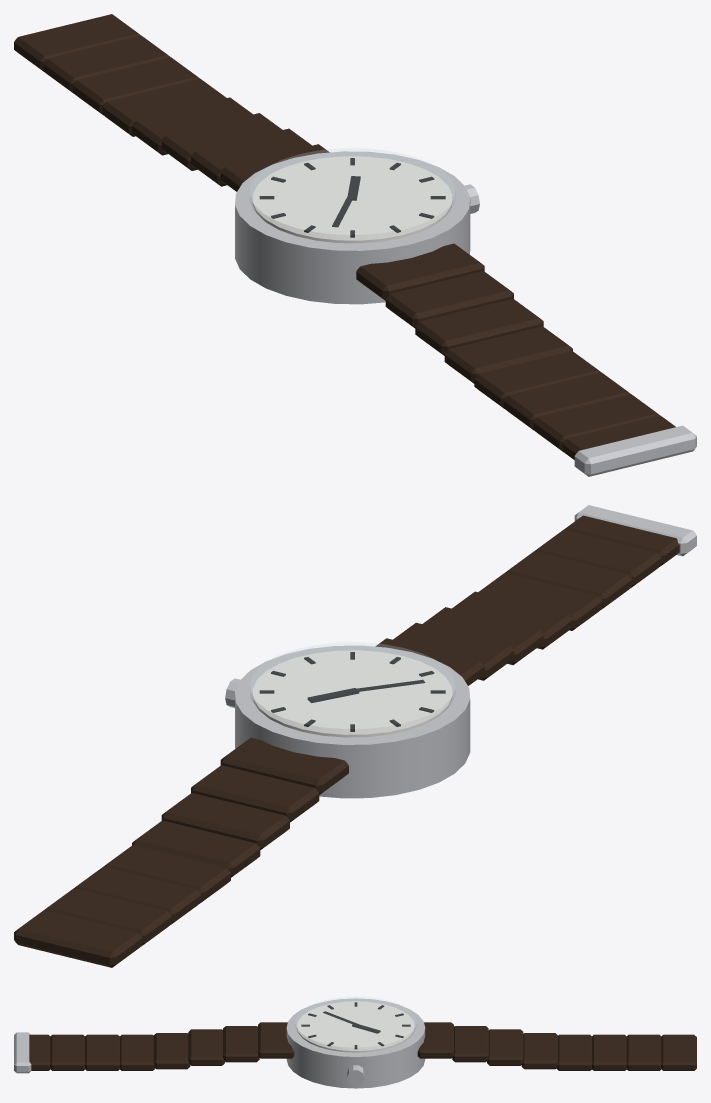
Rendered from watch.glb.
3 renders of one model, top to bottom at view 1: azimuth 30°, elevation 25°; view 2: azimuth 150°, elevation 25°; view 3: azimuth 270°, elevation 25°, orthographic. The views are drawn at different scales.
Parts seen in each view (by area): view 1: watch; view 2: watch; view 3: watch.
Boxes of the visible parts, x1=… form: watch: x1=14, y1=14, x2=696, y2=476; watch: x1=14, y1=505, x2=696, y2=967; watch: x1=14, y1=996, x2=696, y2=1088.
Bounding box in the file's own units: 0.0486 × 0.0132 × 0.22.
